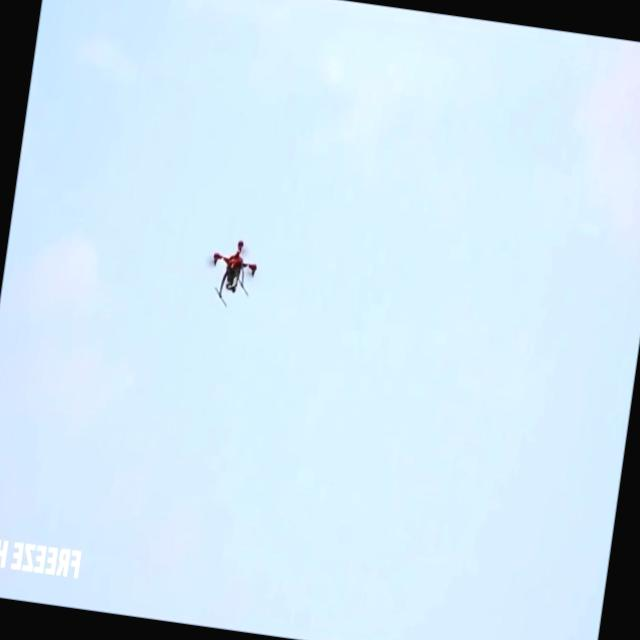drone: (206, 232, 262, 316)
